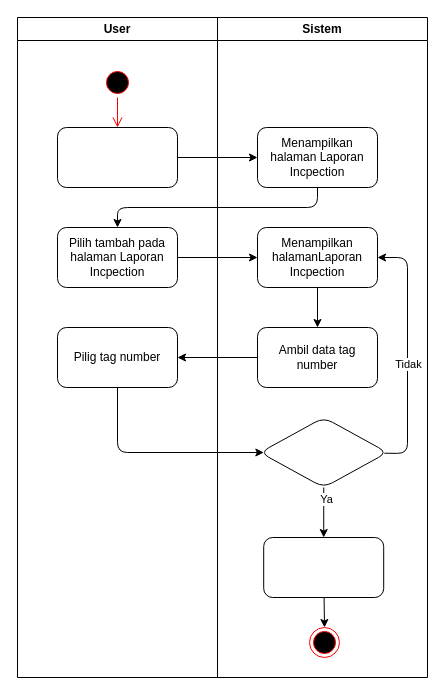
The diagram is 445 pixels wide and 695 high, and some of its shapes have lost their labels. The shapes that lost their labels are listed below. From the top down, each one's centre as x and y in pixels, then its label:
the point at 117,157: Pilih fitur Laporan Incpection
the point at 323,452: Validasi data
the point at 323,567: Data berhasil ditambahkan
